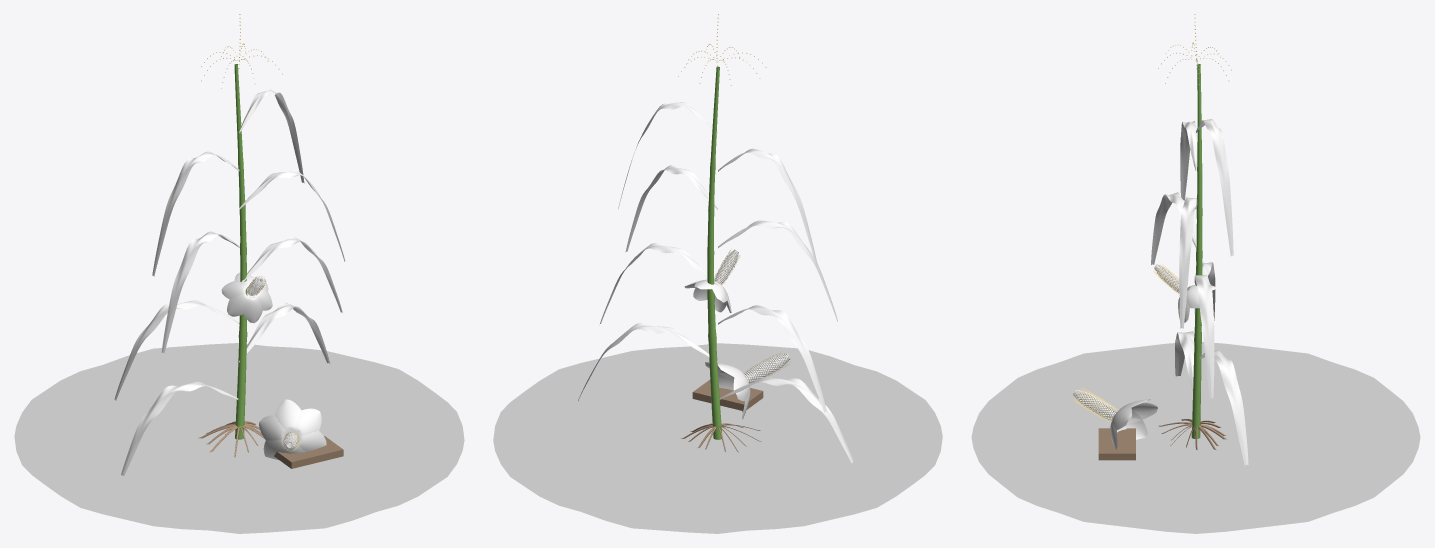
Rendered from jagung.glb.
3 views of the same model, side by side, from view 1: azimuth 30°, elevation 25°; view 2: azimuth 150°, elevation 25°; view 3: azimuth 270°, elevation 25° (orthographic).
Parts seen in each view (by area): view 1: Soil_Mound, HeroCob_Husks, Corn_Stalk, PlantCob_Husks, Corn_Leaf_5, Corn_Leaf_1, Corn_Leaf_7, Corn_Leaf_3, Presentation_Pedestal, Corn_Leaf_2, Corn_Leaf_8, Corn_Leaf_4 (+2 smaller); view 2: Soil_Mound, Corn_Stalk, Corn_Leaf_3, Corn_Leaf_1, Presentation_Pedestal, HeroCob_Husks, Corn_Leaf_7, Corn_Leaf_5, Corn_Leaf_6, PlantCob_Husks, Corn_Leaf_2, HeroCob_Kernels (+2 smaller); view 3: Soil_Mound, Corn_Stalk, Corn_Leaf_4, Corn_Leaf_6, Corn_Leaf_2, Corn_Leaf_8, HeroCob_Husks, Presentation_Pedestal, Corn_Leaf_7, Corn_Leaf_1, Corn_Leaf_5, Brace_Roots (+1 smaller).
Part boxes in pixels (<box>): Soil_Mound: <box>14,343,464,533</box>; HeroCob_Husks: <box>259,399,326,459</box>; Corn_Stalk: <box>234,64,247,439</box>; PlantCob_Husks: <box>221,272,272,323</box>; Corn_Leaf_5: <box>161,231,239,353</box>; Corn_Leaf_1: <box>121,381,238,475</box>; Corn_Leaf_7: <box>152,151,239,276</box>; Corn_Leaf_3: <box>114,300,239,400</box>; Presentation_Pedestal: <box>274,436,343,468</box>; Corn_Leaf_2: <box>239,302,329,363</box>; Corn_Leaf_8: <box>239,89,304,183</box>; Corn_Leaf_4: <box>239,236,342,312</box>; Soil_Mound: <box>493,343,942,533</box>; Corn_Stalk: <box>707,66,722,439</box>; Corn_Leaf_3: <box>718,305,826,412</box>; Corn_Leaf_1: <box>719,377,853,463</box>; Presentation_Pedestal: <box>692,379,763,410</box>; HeroCob_Husks: <box>705,362,750,419</box>; Corn_Leaf_7: <box>718,148,817,266</box>; Corn_Leaf_5: <box>718,220,837,321</box>; Corn_Leaf_6: <box>625,165,717,252</box>; PlantCob_Husks: <box>684,279,731,312</box>; Corn_Leaf_2: <box>578,322,717,400</box>; HeroCob_Kernels: <box>744,353,790,383</box>; Soil_Mound: <box>971,342,1420,533</box>; Corn_Stalk: <box>1191,64,1202,438</box>; Corn_Leaf_4: <box>1194,274,1214,398</box>; Corn_Leaf_6: <box>1179,197,1197,328</box>; Corn_Leaf_2: <box>1197,350,1248,465</box>; Corn_Leaf_8: <box>1196,119,1233,256</box>; HeroCob_Husks: <box>1110,399,1157,449</box>; Presentation_Pedestal: <box>1098,428,1135,460</box>; Corn_Leaf_7: <box>1180,121,1197,200</box>; Corn_Leaf_1: <box>1175,331,1194,390</box>; Corn_Leaf_5: <box>1151,192,1195,264</box>; Brace_Roots: <box>1159,419,1227,450</box>.
Bounding box in the file's own units: 2.4 × 2.56 × 2.4.
